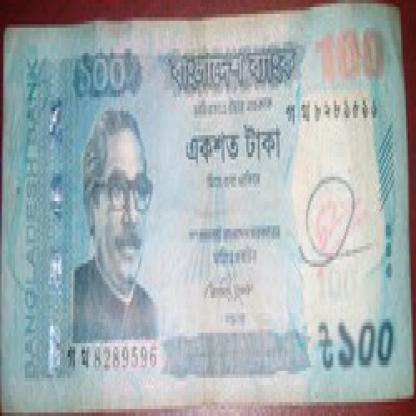one hundred taka: (331, 284, 403, 378), (306, 17, 388, 87), (73, 35, 133, 100)
